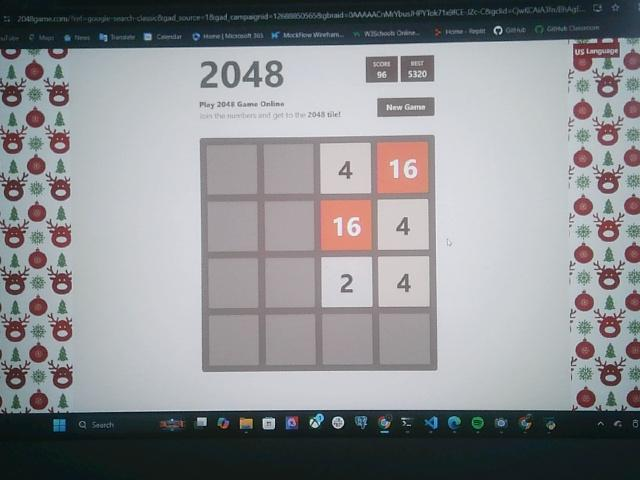board: (199, 135, 438, 373)
tile: (321, 255, 375, 310), (320, 141, 372, 195), (377, 140, 428, 195), (378, 198, 431, 250), (321, 199, 374, 250), (378, 255, 429, 307)
